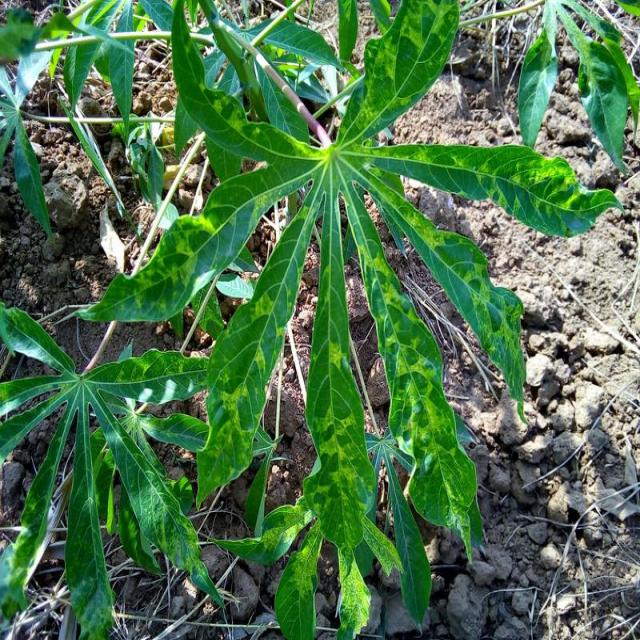cassava leaf: (67, 0, 625, 638)
